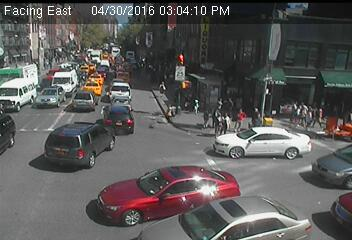neg: (214, 178, 249, 224), (300, 183, 326, 219), (78, 41, 103, 76)
